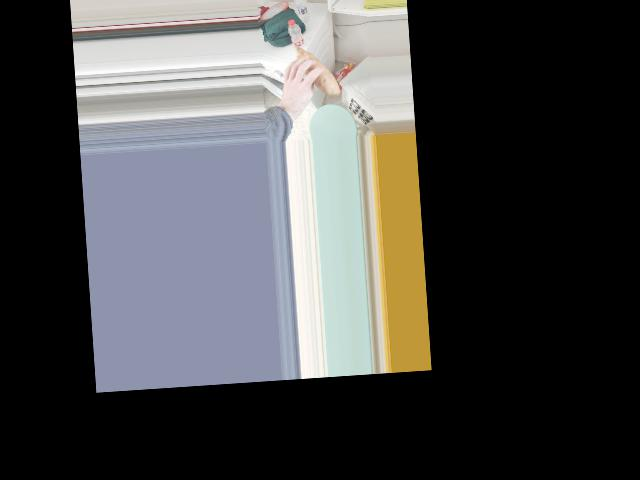sweet_potato: (284, 46, 337, 91)
